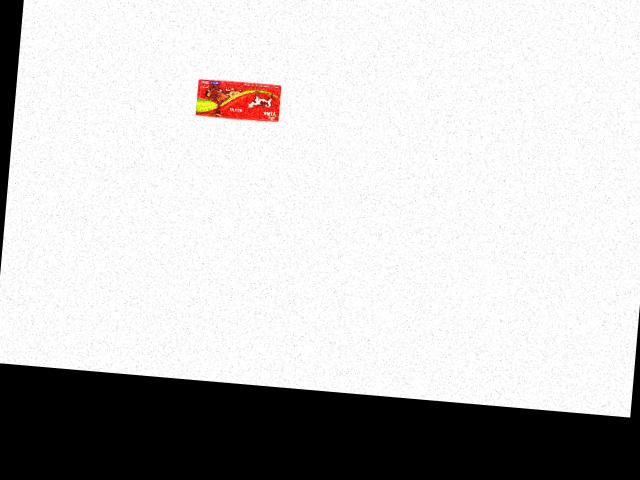chocolate: (193, 70, 287, 125)
